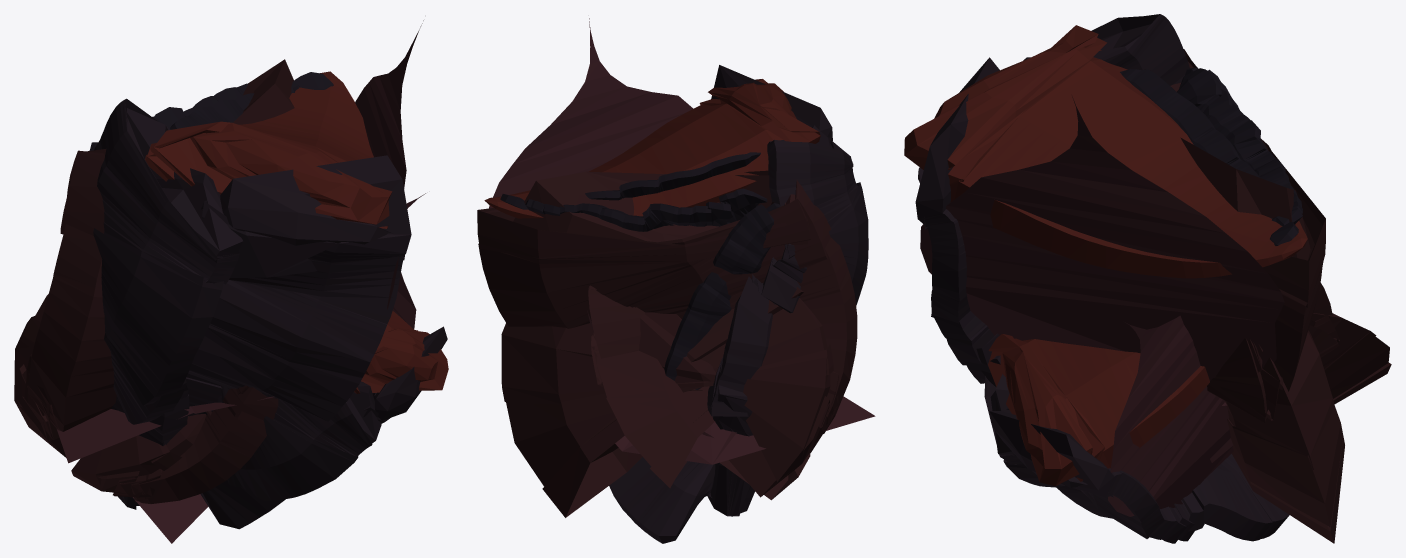
The model's file is Stone_World2_02.fbx.
3 views of the same model, side by side, from view 1: azimuth 30°, elevation 25°; view 2: azimuth 150°, elevation 25°; view 3: azimuth 270°, elevation 25° (orthographic). The views are drawn at different scales.
Visible parts, largest first — view 1: NewLayer1; view 2: NewLayer1; view 3: NewLayer1.
Boxes of the visible parts, box(x1,y1,x2,y2) form: NewLayer1: box(14, 20, 448, 543); NewLayer1: box(477, 18, 875, 543); NewLayer1: box(904, 14, 1391, 543).
Size of the model in its own units: 0.0771 by 0.0987 by 0.0818.
